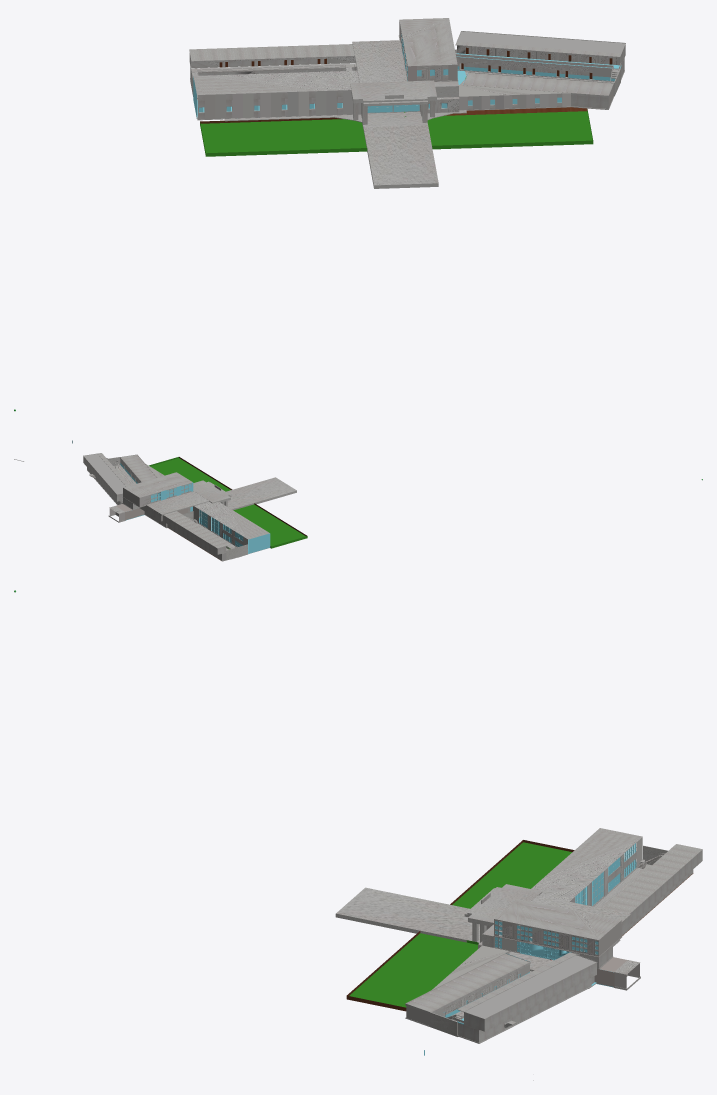
Rendered from enseignants .gltf.
3 views of the same model, one above another, from view 1: azimuth 30°, elevation 25°; view 2: azimuth 150°, elevation 25°; view 3: azimuth 270°, elevation 25° (orthographic). The views are drawn at different scales.
Visible parts, largest first — view 1: building_134.005, Cube.218, Plane.031, Plane.038, building_008.010, building_008.012, building_048.040, building_131.003, Plane.035, Cube.221, building_004.010, building_008.008 (+7 smaller); view 2: building_134.005, Cube.218, Plane.038, building_048.040, building_008.010, Cube.221, Plane.001, Plane.035, Plane.039, building_004.010, Plane.031, building_008.008 (+6 smaller); view 3: building_134.005, Cube.218, Plane.038, building_008.008, building_008.010, building_048.040, Plane.035, building_004.010, building_048.039, Plane.001, building_004.012, Plane.031 (+3 smaller).
Boxes of the visible parts, x1,y1,x2,y2 form: building_134.005: (200,109,593,156); Cube.218: (363,125,438,188); Plane.031: (197,71,360,120); Plane.038: (193,70,359,94); building_008.010: (455,31,625,57); building_008.012: (456,45,621,77); building_048.040: (399,18,457,66); building_131.003: (458,85,570,110); Plane.035: (189,44,354,61); Cube.221: (352,40,407,82); building_004.010: (463,72,613,95); building_008.008: (455,45,625,82); building_134.005: (149,457,307,548); Cube.218: (226,477,296,510); Plane.038: (194,501,269,539); building_048.040: (123,472,192,497); building_008.010: (83,453,129,494); Cube.221: (146,491,209,515); Plane.001: (162,515,236,561); Plane.035: (163,511,230,548); Plane.039: (199,517,270,553); building_004.010: (121,455,156,481); Plane.031: (193,506,268,554); building_008.008: (83,456,122,505); building_134.005: (349,842,572,1007); Cube.218: (335,887,479,942); Plane.038: (531,828,642,901); building_008.008: (446,963,596,1043); building_008.010: (457,952,597,1019); building_048.040: (494,899,621,939); Plane.035: (603,844,702,913); building_004.010: (407,953,528,1011); building_048.039: (493,919,621,957); Plane.001: (621,846,702,935); building_004.012: (405,964,529,1027); Plane.031: (570,837,642,906).
Size of the model in its own units: 395 by 18.01 by 241.
300 materials, 300 textured.
